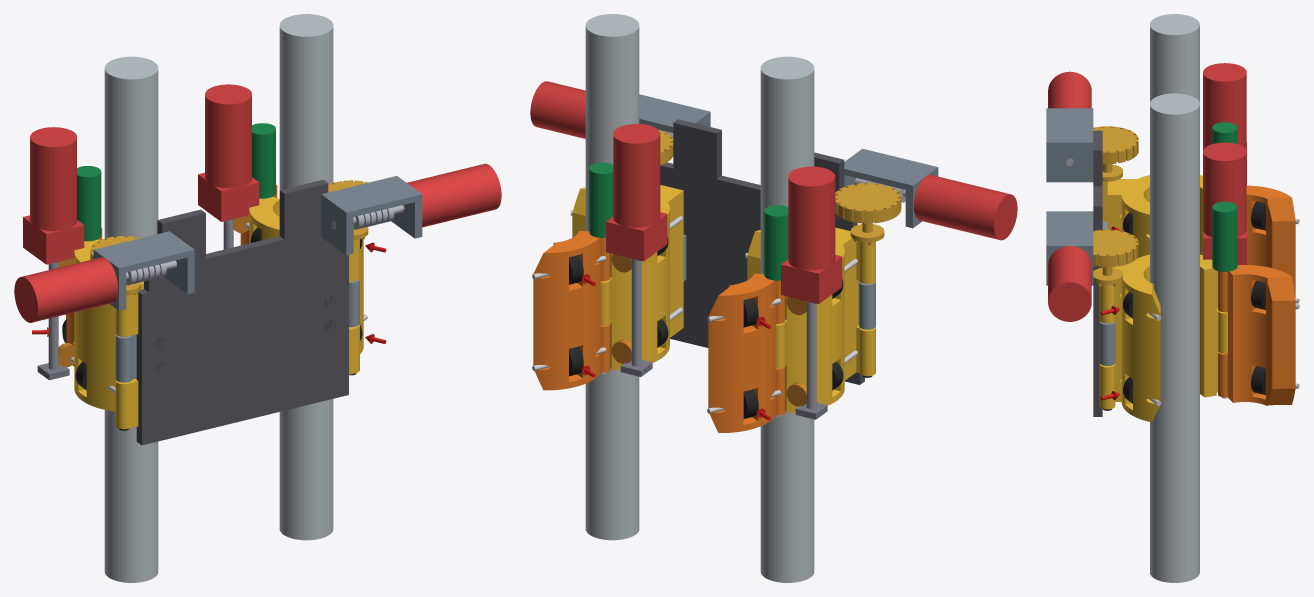
The model's file is sleeves_released.glb.
3 renders of one model, left to right at view 1: azimuth 30°, elevation 25°; view 2: azimuth 150°, elevation 25°; view 3: azimuth 270°, elevation 25°, orthographic. The views are drawn at different scales.
Visible parts, largest first — view 1: base_plate, track_pipe_B, track_pipe_C, hinge_B_worm_motor, hand_B_drive_motor, hand_C_drive_motor, hinge_C_worm_bracket, hand_B_sleeve, hinge_C_worm_motor, hinge_B_worm_bracket, hinge_B_sleeve_leaf_knuckles, hand_C_gearbox (+9 smaller); view 2: track_pipe_B, track_pipe_C, base_plate, hand_C_jaw, hand_B_jaw, hand_C_sleeve, hand_B_sleeve, hand_B_drive_motor, hand_C_drive_motor, hinge_B_worm_motor, hinge_B_worm_bracket, hinge_B_worm_wheel_hub (+14 smaller); view 3: track_pipe_C, hand_C_jaw, hand_C_sleeve, track_pipe_B, hand_B_jaw, hinge_B_worm_bracket, hand_C_drive_motor, hand_B_drive_motor, hinge_C_worm_motor, hand_B_sleeve, hinge_C_worm_bracket, hinge_C_worm_wheel_hub (+13 smaller).
Boxes of the visible parts, left/top/right/bottom form: base_plate: left=136, top=179, right=348, bottom=445; track_pipe_B: left=104, top=56, right=158, bottom=582; track_pipe_C: left=279, top=14, right=333, bottom=540; hinge_B_worm_motor: left=14, top=257, right=117, bottom=322; hand_B_drive_motor: left=30, top=127, right=76, bottom=230; hand_C_drive_motor: left=205, top=84, right=251, bottom=188; hinge_C_worm_bracket: left=321, top=176, right=422, bottom=255; hand_B_sleeve: left=74, top=239, right=115, bottom=411; hinge_C_worm_motor: left=402, top=163, right=501, bottom=227; hinge_B_worm_bracket: left=93, top=231, right=194, bottom=310; hinge_B_sleeve_leaf_knuckles: left=115, top=281, right=143, bottom=429; hand_C_gearbox: left=198, top=172, right=259, bottom=221; track_pipe_B: left=760, top=56, right=814, bottom=582; track_pipe_C: left=585, top=14, right=639, bottom=540; base_plate: left=660, top=119, right=864, bottom=384; hand_C_jaw: left=533, top=231, right=610, bottom=390; hand_B_jaw: left=708, top=273, right=785, bottom=432; hand_C_sleeve: left=572, top=187, right=681, bottom=369; hand_B_sleeve: left=747, top=230, right=856, bottom=412; hand_B_drive_motor: left=788, top=166, right=835, bottom=270; hand_C_drive_motor: left=613, top=124, right=660, bottom=227; hinge_B_worm_motor: left=914, top=174, right=1017, bottom=240; hinge_B_worm_bracket: left=844, top=148, right=938, bottom=228; hinge_B_worm_wheel_hub: left=835, top=183, right=901, bottom=245; track_pipe_C: left=1150, top=93, right=1199, bottom=582; hand_C_jaw: left=1218, top=265, right=1295, bottom=405; hand_C_sleeve: left=1112, top=254, right=1227, bottom=422; track_pipe_B: left=1150, top=14, right=1199, bottom=102; hand_B_jaw: left=1246, top=185, right=1295, bottom=297; hinge_B_worm_bracket: left=1046, top=108, right=1093, bottom=182; hand_C_drive_motor: left=1203, top=142, right=1246, bottom=237; hand_B_drive_motor: left=1203, top=63, right=1246, bottom=150; hinge_C_worm_motor: left=1048, top=246, right=1091, bottom=321; hand_B_sleeve: left=1112, top=175, right=1202, bottom=258; hinge_C_worm_bracket: left=1046, top=211, right=1093, bottom=285; hinge_C_worm_wheel_hub: left=1093, top=229, right=1138, bottom=286.
Size of the model in its own units: 318 by 330 by 162.
